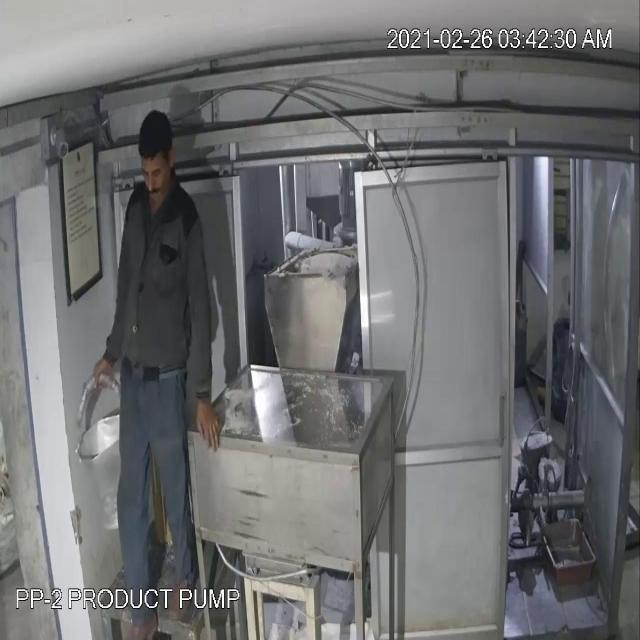no-helmet: (130, 109, 181, 209)
